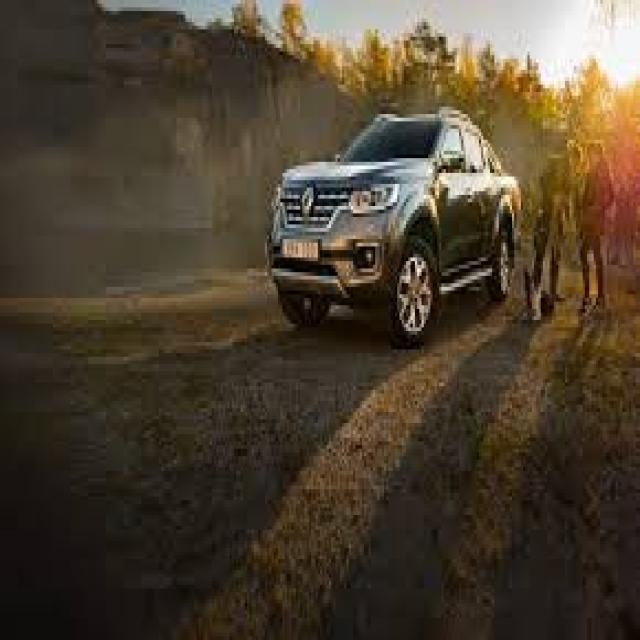Pickup Trucks: (267, 106, 525, 350)
